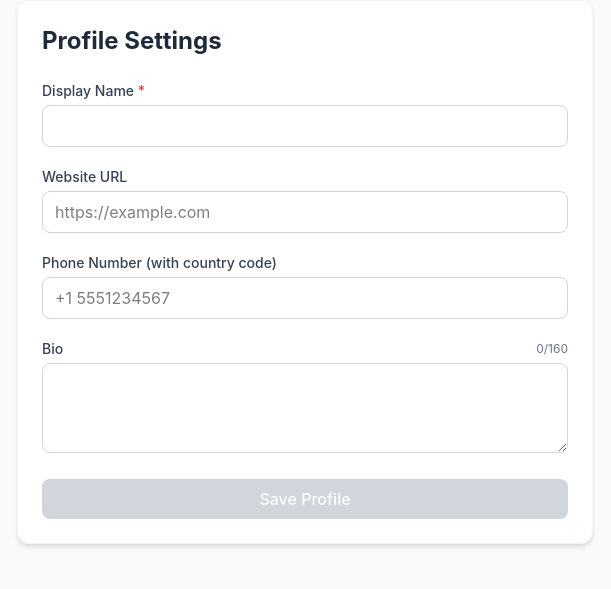
Scenario: Task 1: Profile Settings Form › clears URL error when valid scheme is added
Type "example.com" into the field labelled "Website URL". click: (305,212)
box: left=42, top=191, right=568, bottom=233
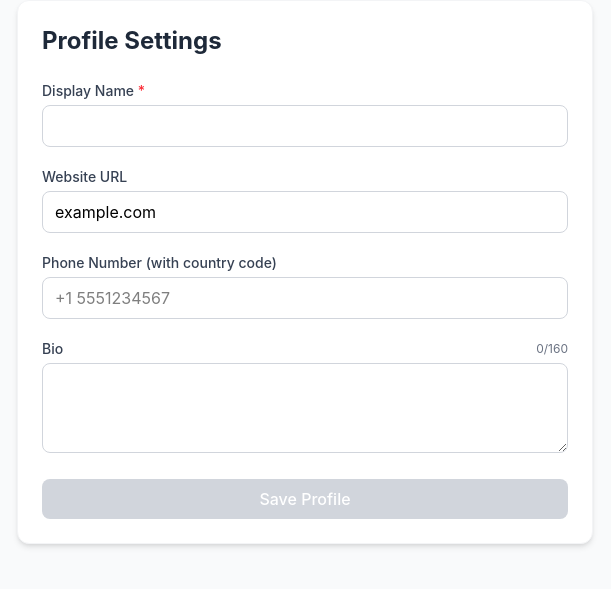
Leave the field labelled "Website URL", box left=42, top=191, right=568, bottom=233
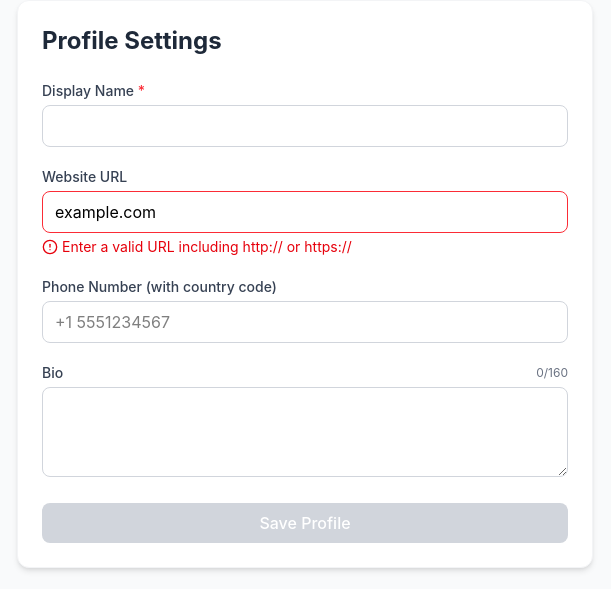
Expected: the text "Enter a valid URL including http:// or https://" is shown, left=62, top=237, right=352, bottom=257
Replace the text in the field labelled "Website URL" with "https://example.com". click: (305,212)
box: left=42, top=191, right=568, bottom=233
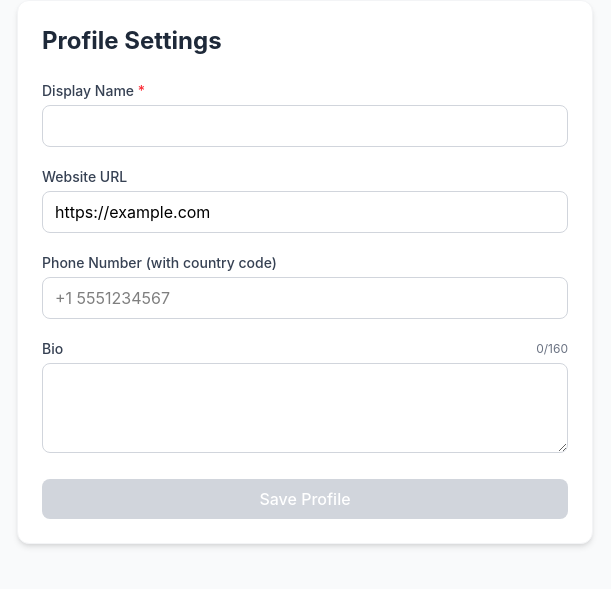
Expected: the text "Enter a valid URL including http" is gone
